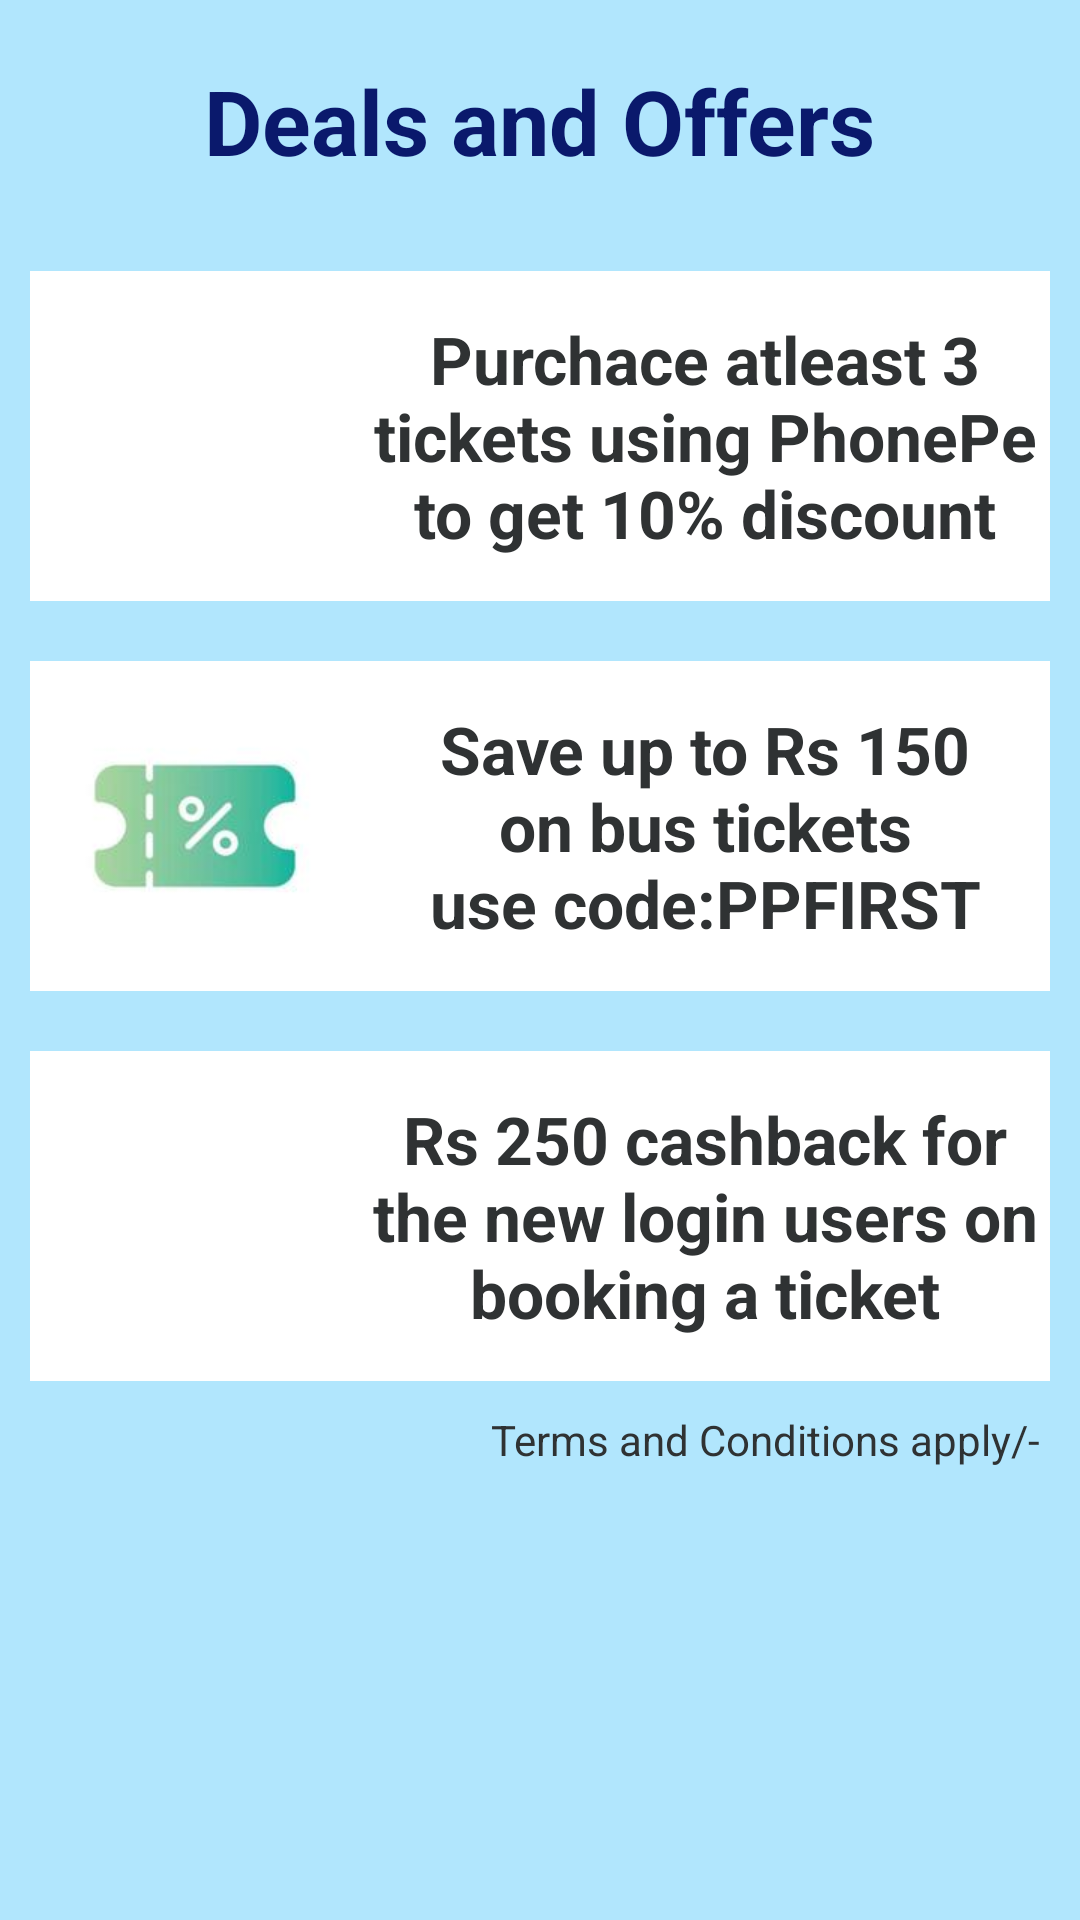

Icon click points for this 1080x1920 phone screenshot, format point (x, y):
coupon: point (196, 826)
